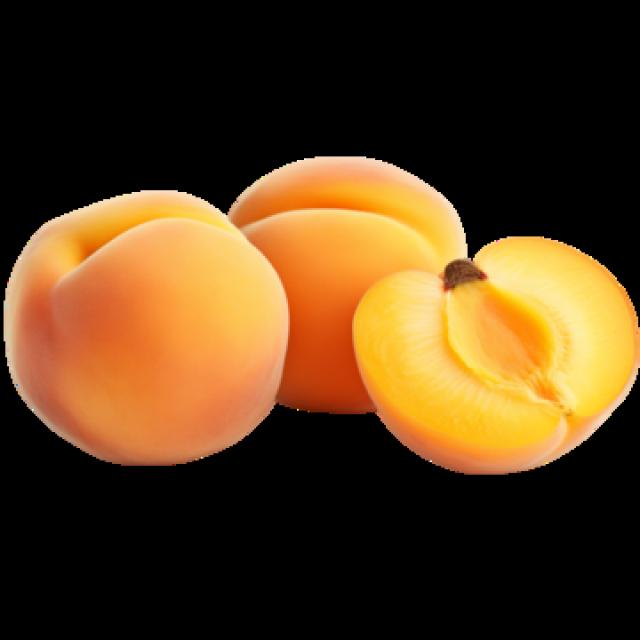kayisi: (10, 197, 293, 471), (349, 234, 638, 470), (234, 157, 470, 413)
